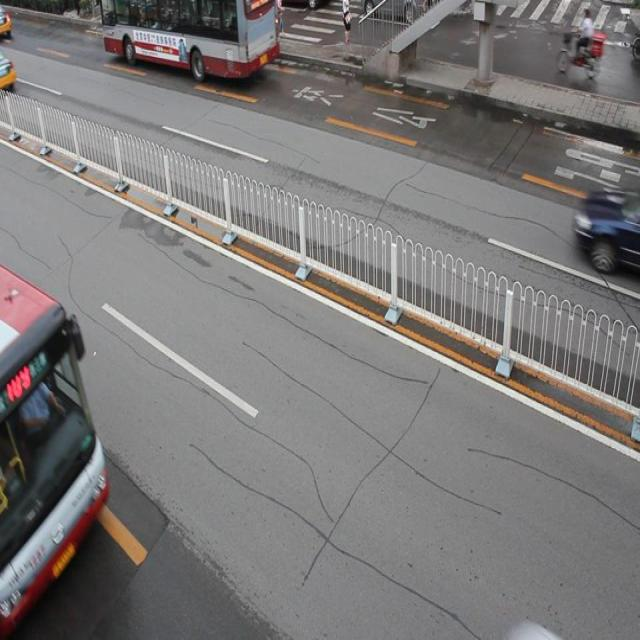car: (576, 177, 640, 276)
van: (1, 264, 109, 621), (100, 1, 278, 82)
